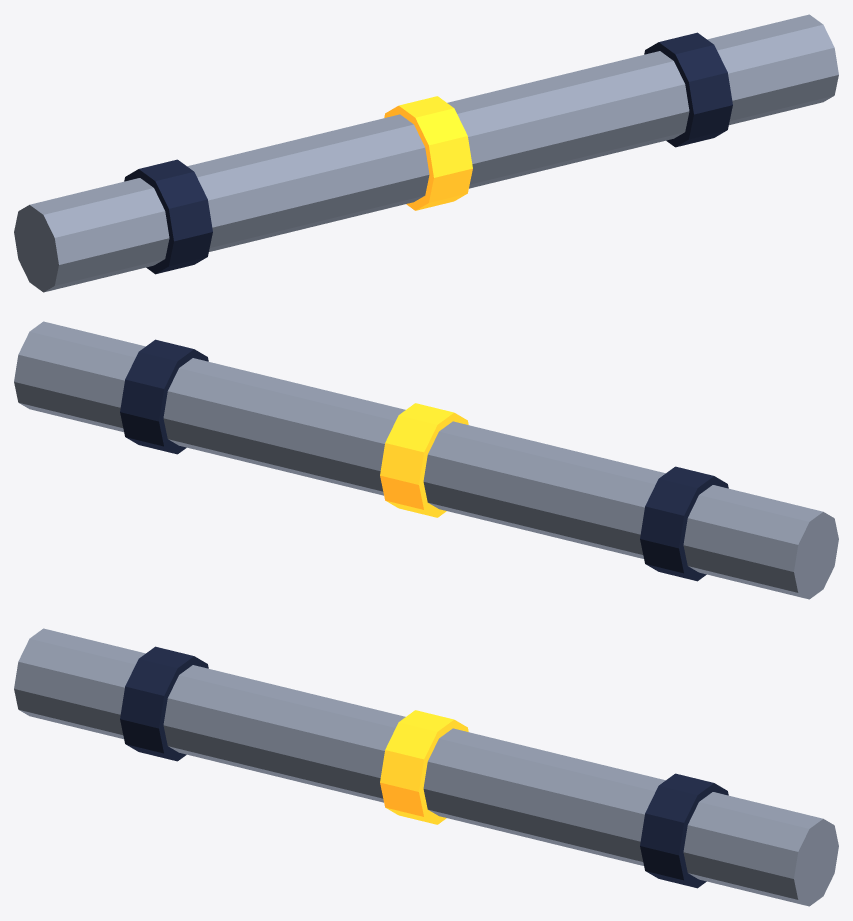
File: stationpack-pipe-straight.glb
The picture shows the model from 3 angles, top to bottom: view 1: azimuth 30°, elevation 25°; view 2: azimuth 150°, elevation 25°; view 3: azimuth 330°, elevation 25°; orthographic projection.
Visible parts, largest first — view 1: pipe_straight; view 2: pipe_straight; view 3: pipe_straight.
Boxes of the visible parts, <box> form: pipe_straight: <box>14,14,838,292</box>; pipe_straight: <box>14,321,838,599</box>; pipe_straight: <box>14,628,838,906</box>.
Size of the model in its own units: 3 by 0.3424 by 0.36.
